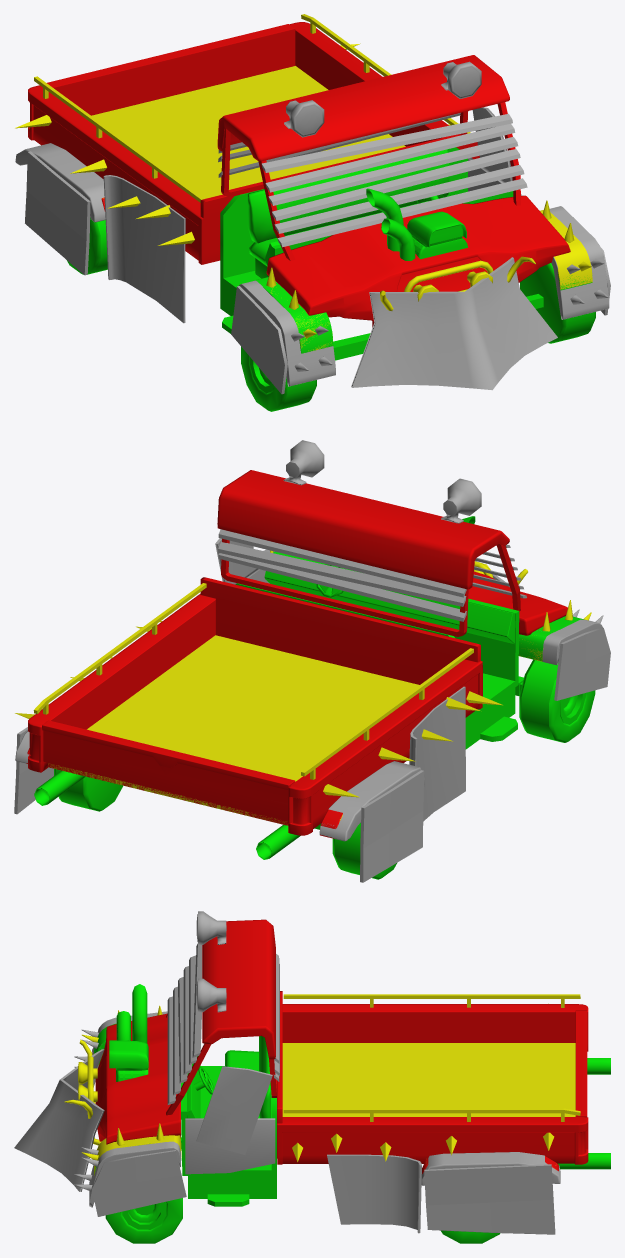
The model's file is Light_Vehicle.fbx.
The picture shows the model from 3 angles, top to bottom: view 1: azimuth 30°, elevation 25°; view 2: azimuth 150°, elevation 25°; view 3: azimuth 270°, elevation 25°; orthographic projection. The views are drawn at different scales.
Visible parts, largest first — view 1: Light_Front_armored, Light_cargo_1, Light_Cab_Armored_Top, Light_front_basic1, Light_Back_3, Light_armored_back, Light_Cab_1_top, Light_Front_speed, Light_wheels, Light_Front_Spikes1, Light_Interior, Light_Cab_4 (+2 smaller); view 2: Light_cargo_1, Light_Back_3, Light_Cab_1_top, Light_armored_back, Light_Cab_Armored_Top, Light_wheels, Light_Cab_4, Light_Front_armored, Light_Interior, Light_Front_speed, Light_front_basic1, Light_Front_Spikes1 (+1 smaller); view 3: Light_cargo_1, Light_Back_3, Light_armored_back, Light_Front_armored, Light_Cab_1_top, Light_Cab_Armored_bottom, Light_front_basic1, Light_Cab_Armored_Top, Light_Cab_4, Light_Front_speed, Light_wheels, Light_Front_Spikes1 (+1 smaller).
Part boxes in pixels (bbox=[...]): Light_Front_armored: bbox=[231, 206, 610, 394]; Light_cargo_1: bbox=[28, 22, 479, 264]; Light_Cab_Armored_Top: bbox=[218, 61, 527, 247]; Light_front_basic1: bbox=[266, 195, 570, 327]; Light_Back_3: bbox=[34, 14, 470, 202]; Light_armored_back: bbox=[15, 143, 185, 323]; Light_Cab_1_top: bbox=[217, 55, 520, 260]; Light_Front_speed: bbox=[255, 188, 592, 353]; Light_wheels: bbox=[67, 217, 595, 411]; Light_Front_Spikes1: bbox=[15, 43, 592, 351]; Light_Interior: bbox=[247, 149, 449, 278]; Light_Cab_4: bbox=[220, 147, 513, 333]; Light_cargo_1: bbox=[26, 577, 482, 838]; Light_Back_3: bbox=[33, 583, 473, 825]; Light_Cab_1_top: bbox=[217, 470, 520, 636]; Light_armored_back: bbox=[14, 686, 465, 882]; Light_Cab_Armored_Top: bbox=[218, 440, 526, 621]; Light_wheels: bbox=[54, 659, 595, 879]; Light_Cab_4: bbox=[236, 551, 519, 749]; Light_Front_armored: bbox=[263, 549, 610, 700]; Light_Interior: bbox=[264, 564, 515, 644]; Light_Front_speed: bbox=[34, 516, 584, 859]; Light_front_basic1: bbox=[468, 571, 567, 635]; Light_Front_Spikes1: bbox=[15, 550, 591, 797]; Light_cargo_1: bbox=[277, 991, 588, 1173]; Light_Back_3: bbox=[282, 994, 580, 1165]; Light_armored_back: bbox=[327, 1152, 560, 1234]; Light_Front_armored: bbox=[14, 1011, 186, 1216]; Light_Cab_1_top: bbox=[166, 919, 276, 1115]; Light_Cab_Armored_bottom: bbox=[185, 1066, 275, 1174]; Light_front_basic1: bbox=[95, 1013, 180, 1144]; Light_Cab_Armored_Top: bbox=[167, 911, 279, 1104]; Light_Cab_4: bbox=[181, 1066, 276, 1206]; Light_Front_speed: bbox=[94, 984, 610, 1173]; Light_wheels: bbox=[105, 1198, 500, 1243]; Light_Front_Spikes1: bbox=[64, 1003, 554, 1175].
Bounding box in the file's own units: 3.81 × 2.76 × 6.49.
